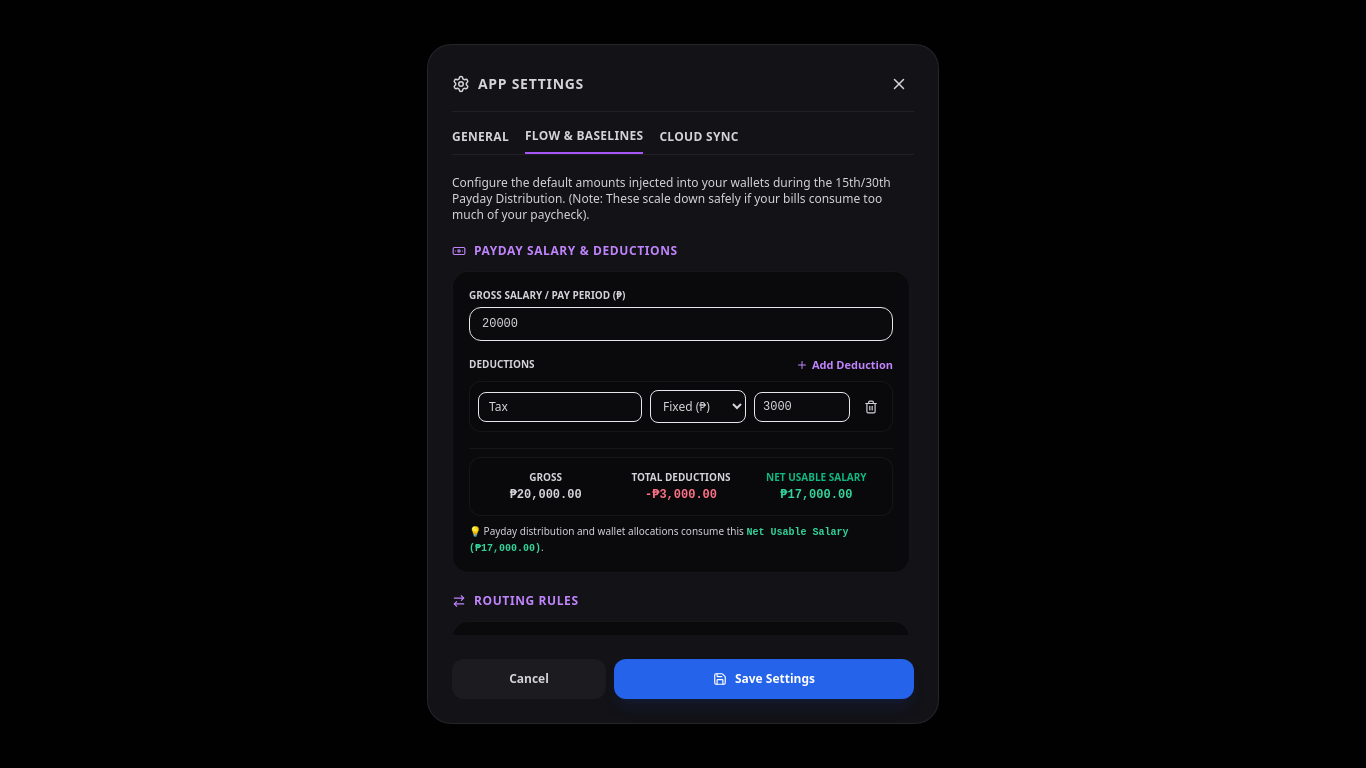
Test: SettingsModal - Salary Gross & Deductions › removes a deduction and restores net salary
Expected: the text with test id "salary-deductions-display" reads "-₱3,000.00", x1=645 y1=488 x2=717 y2=502
Expected: the text with test id "salary-net-display" reads "₱17,000.00", x1=780 y1=488 x2=852 y2=502
Click the button named "Remove Tax" at (871, 407), box x1=858 y1=394 x2=884 y2=420
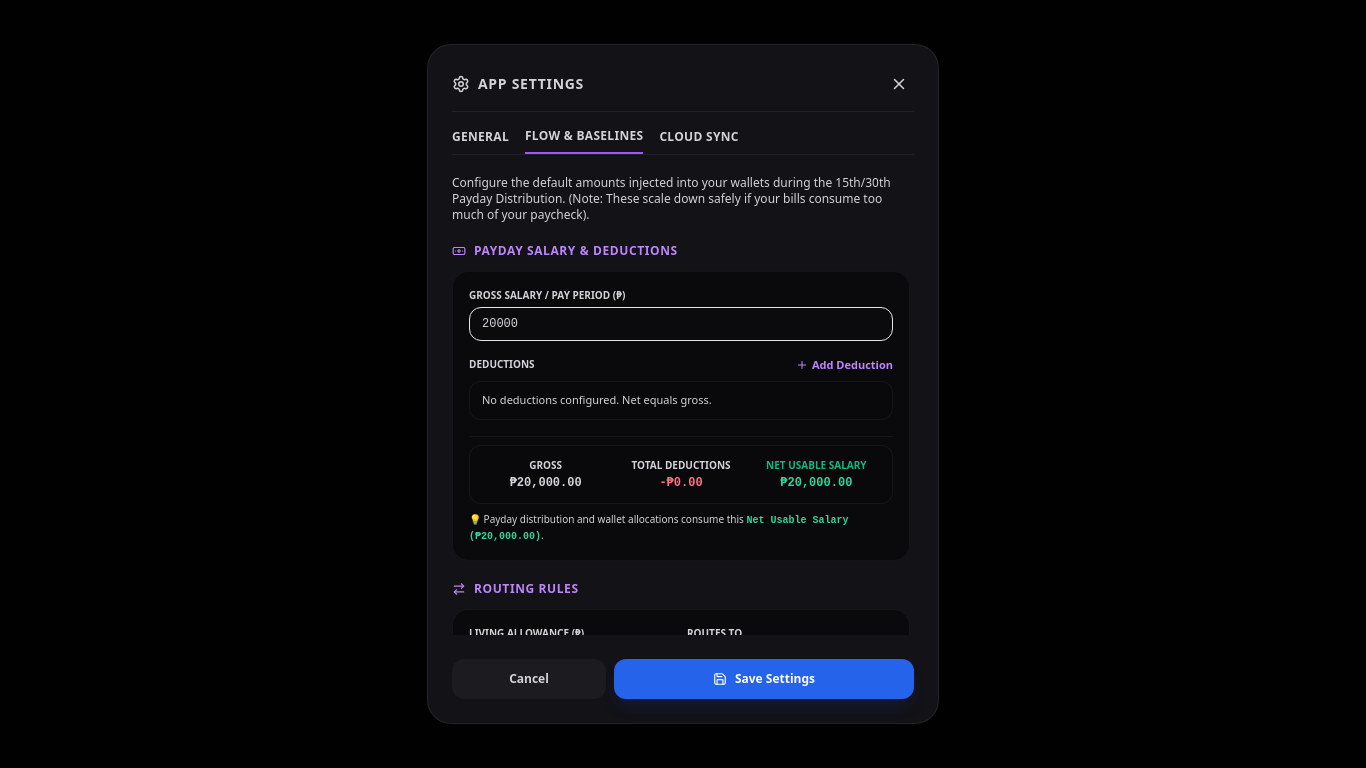
Expected: the text with test id "salary-deductions-display" reads "-₱0.00", x1=659 y1=476 x2=703 y2=490
Expected: the text with test id "salary-net-display" reads "₱20,000.00", x1=780 y1=476 x2=852 y2=490
Expected: the text "No deductions configured. Net equals gross." is shown, x1=469 y1=381 x2=893 y2=420
